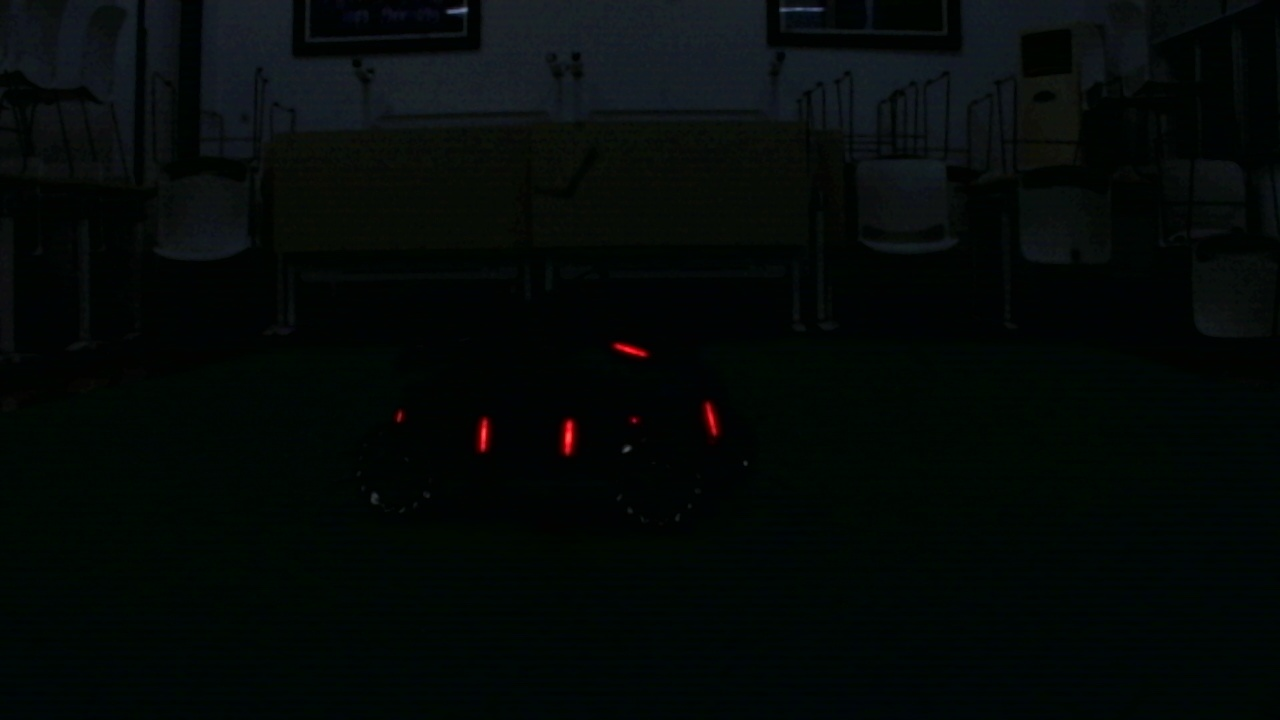lamp: (560, 413, 576, 465), (477, 413, 492, 459), (707, 405, 720, 445)
pair1: (477, 417, 576, 452)
